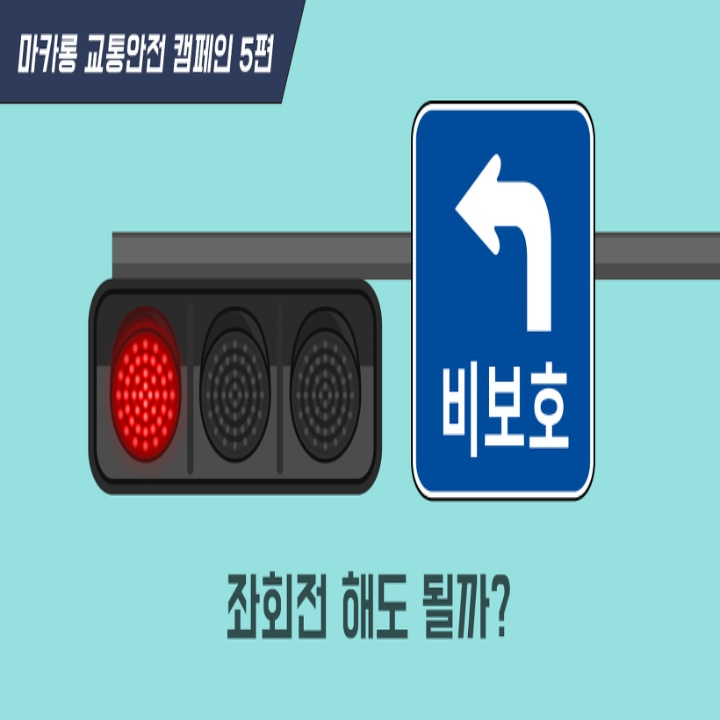left: (449, 142, 567, 343)
